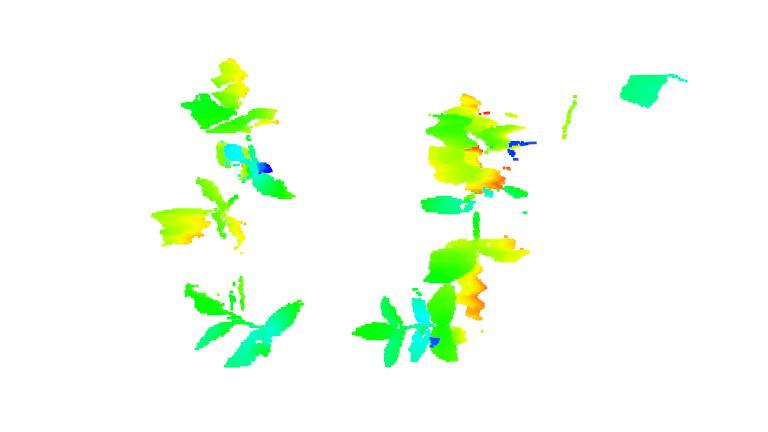mungbean: (148, 55, 299, 250), (418, 96, 535, 321), (183, 278, 308, 370), (352, 288, 472, 367)
